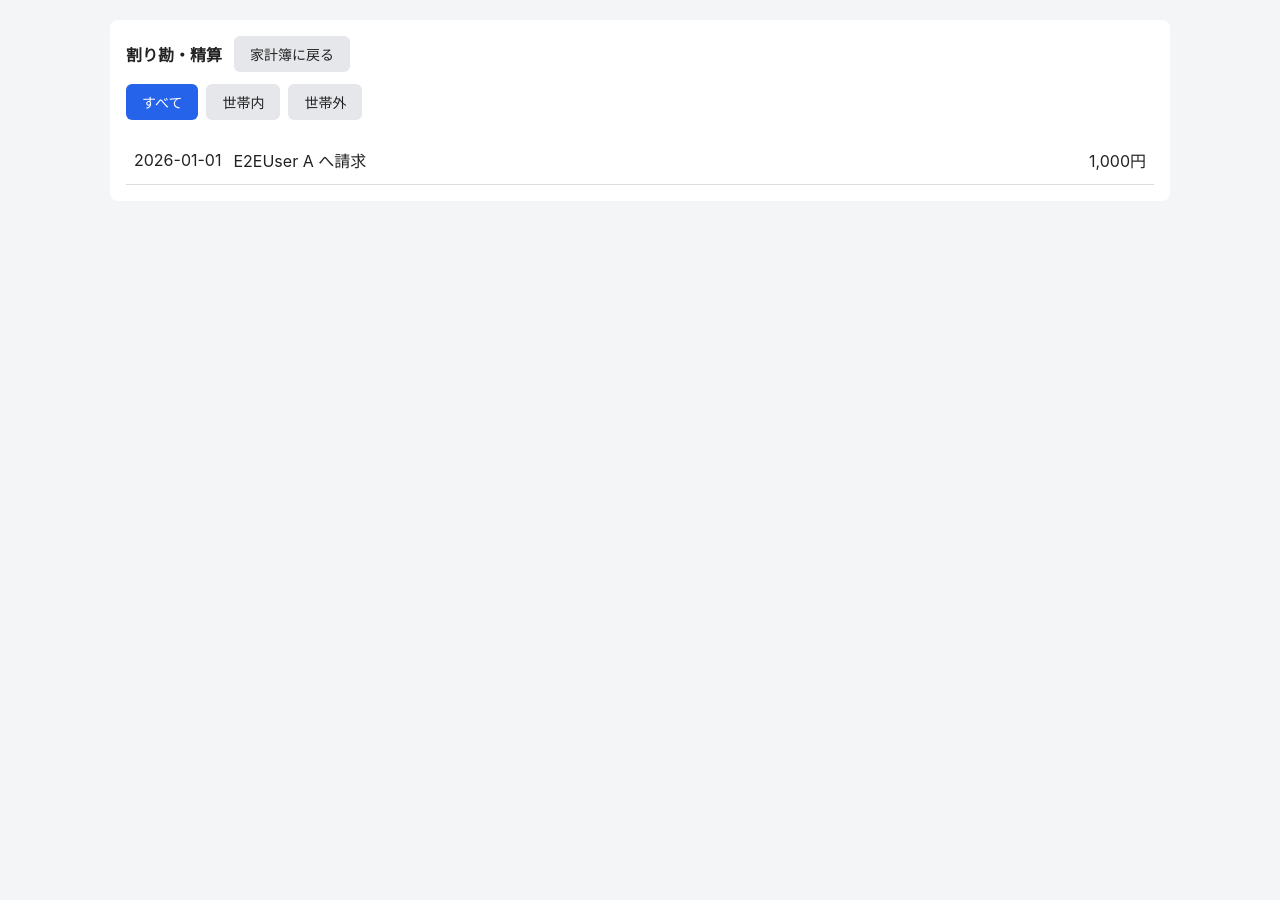
Test case: WarikanPage(改訂フロー) › 世帯外の精算済みは、精算の収入と残高も戻ることを確認して削除できる (settlementLedgerRemoved=false) (#302)
Click the button with aria-label "共同購入". click: (178, 160)
box: [126, 136, 1154, 185]
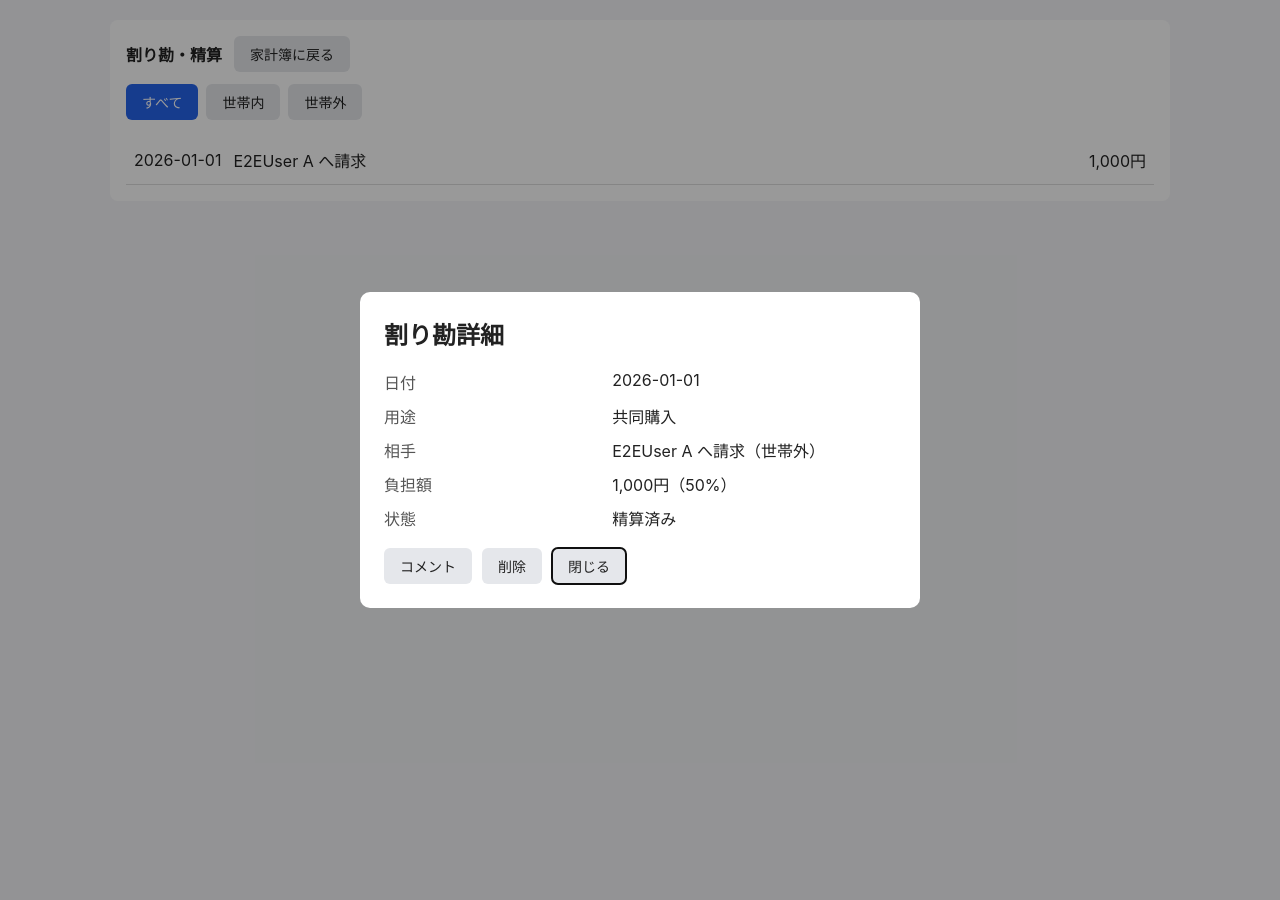
Click the button "削除". click: (512, 566)
box: [482, 548, 542, 584]
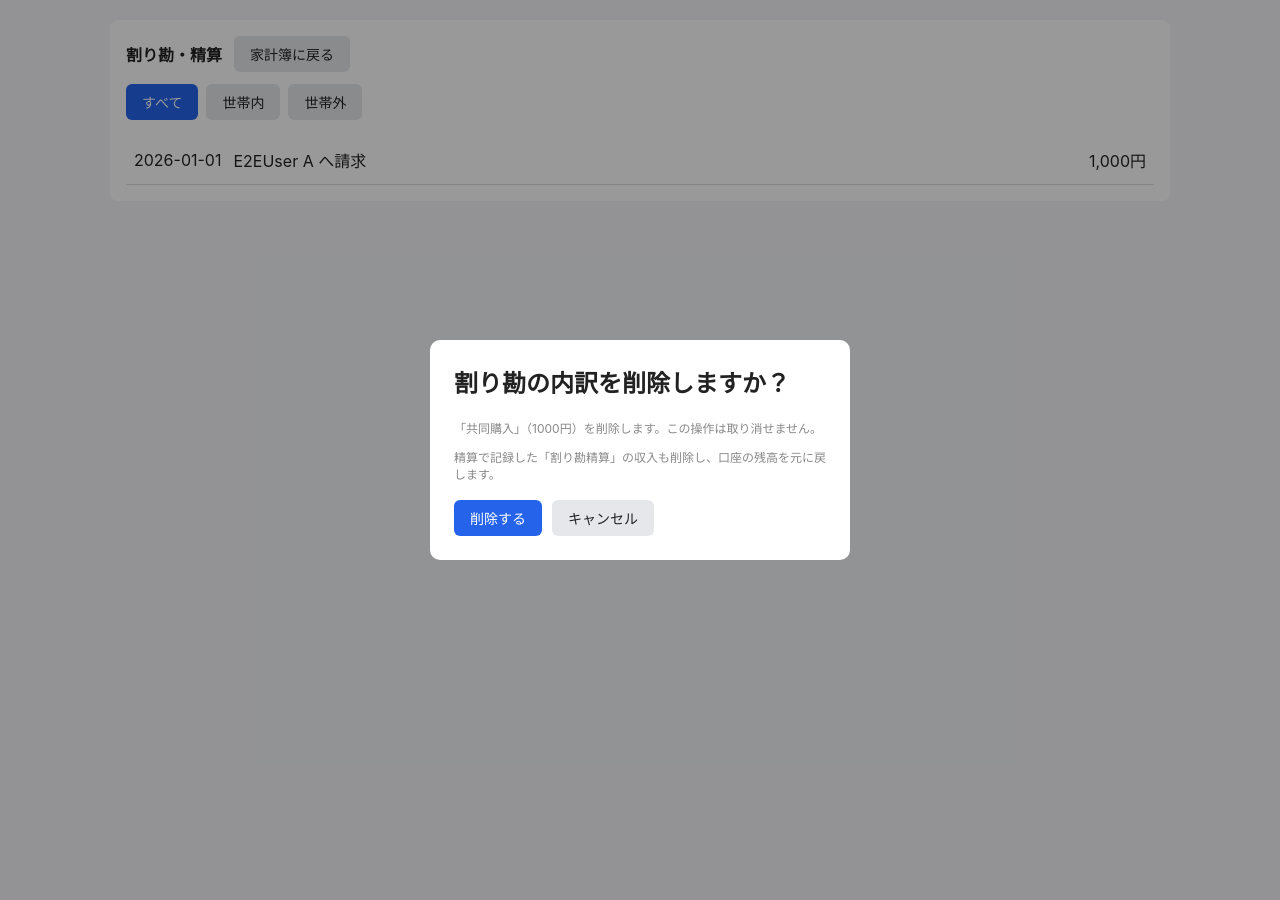
Click the button "削除する". click: (498, 518)
box: [454, 500, 542, 536]
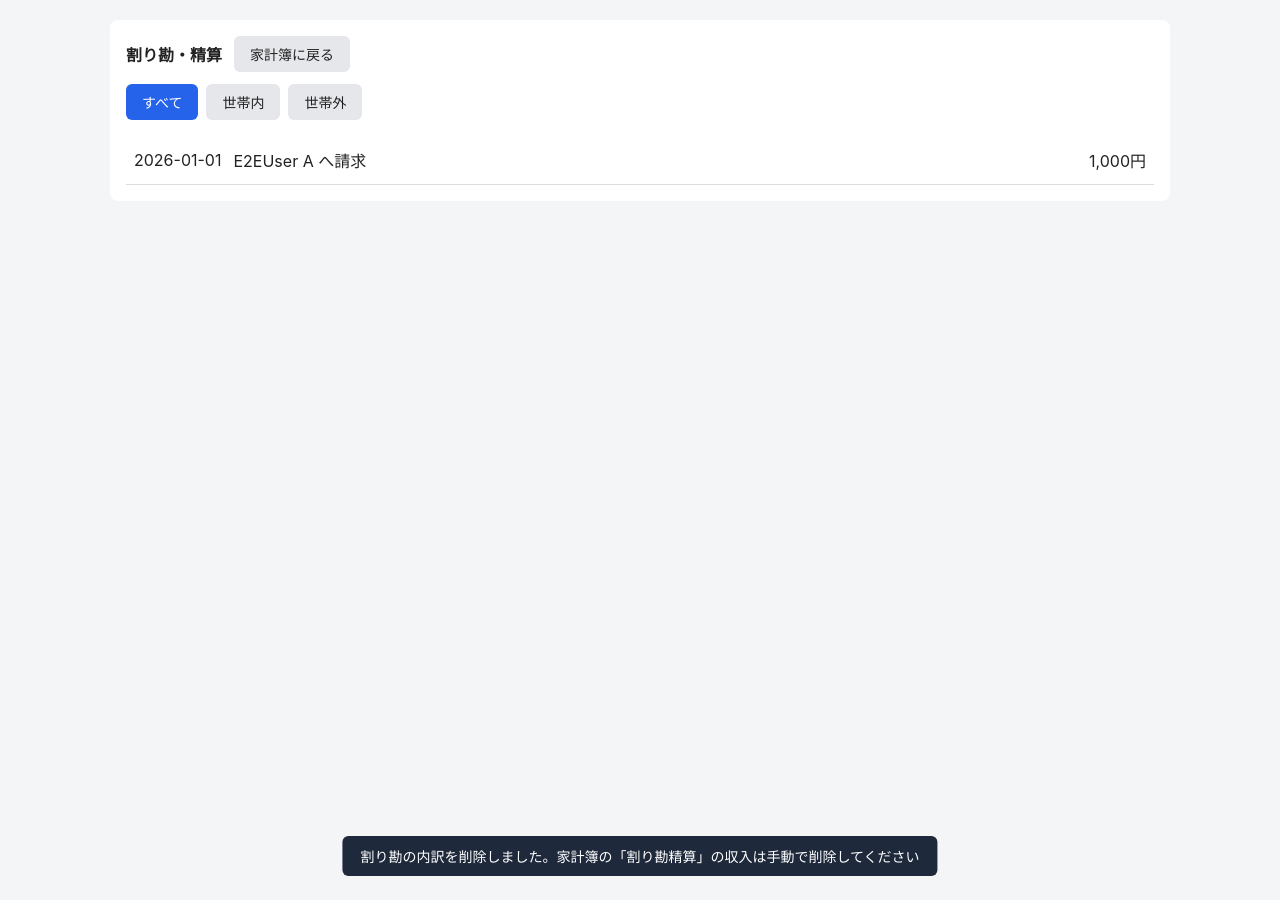
expect the text "割り勘の内訳を削除しました。家計簿の「割り勘精算」の収入は手動で削除してください" is shown: met, box [342, 836, 938, 876]
